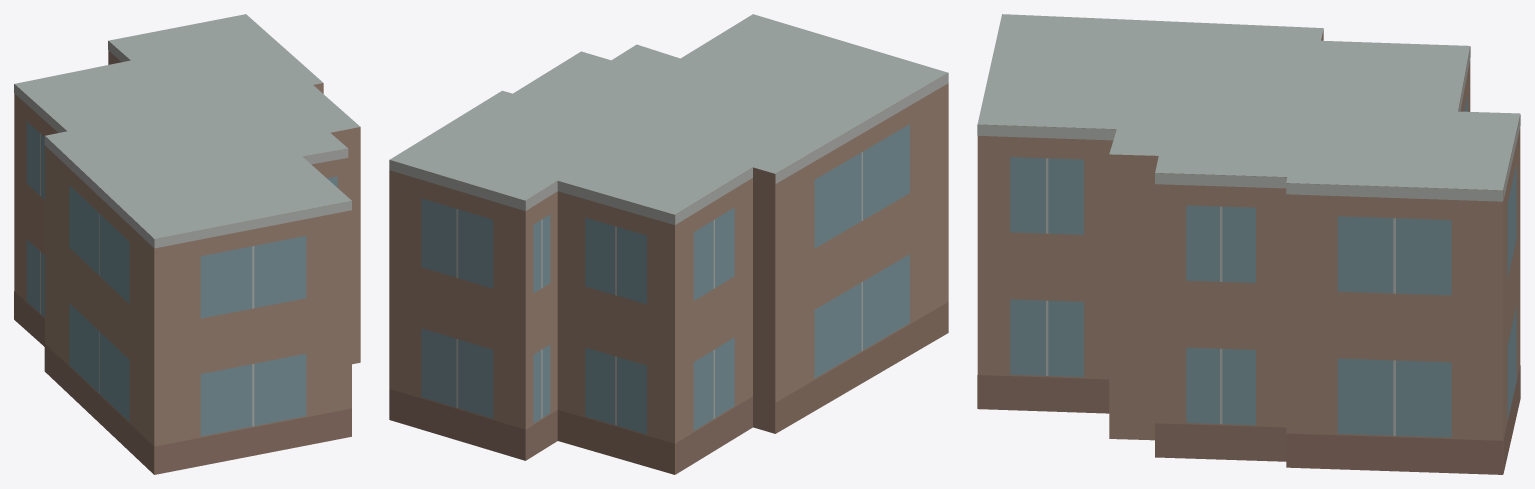
The model's file is survey-upis-32804599.glb.
The picture shows the model from 3 angles, left to right: view 1: azimuth 30°, elevation 25°; view 2: azimuth 150°, elevation 25°; view 3: azimuth 270°, elevation 25°; orthographic projection. The views are drawn at different scales.
Parts seen in each view (by area): view 1: survey-upis-32804599.tmp; view 2: survey-upis-32804599.tmp; view 3: survey-upis-32804599.tmp.
Boxes of the visible parts, <box> form: survey-upis-32804599.tmp: <box>14,14,360,474</box>; survey-upis-32804599.tmp: <box>389,14,948,474</box>; survey-upis-32804599.tmp: <box>977,14,1520,474</box>.
Size of the model in its own units: 8.11 by 6.1 by 10.56.
